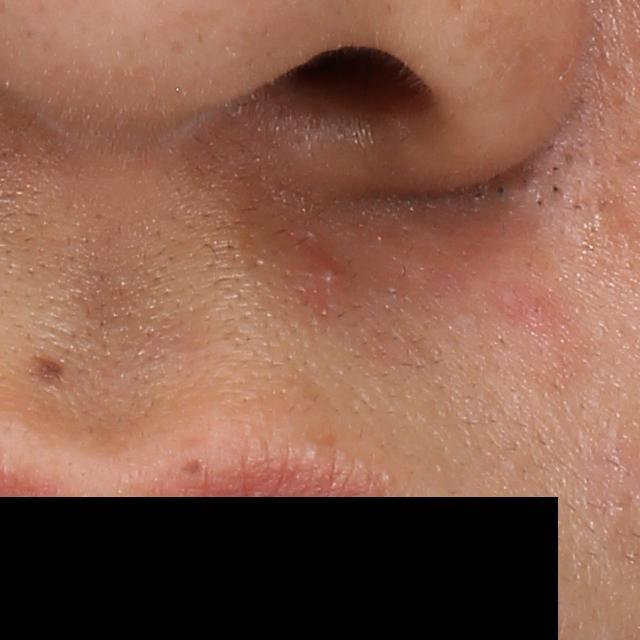comedo: (495, 183, 507, 197)
nevus: (35, 357, 63, 390), (178, 457, 206, 485)
